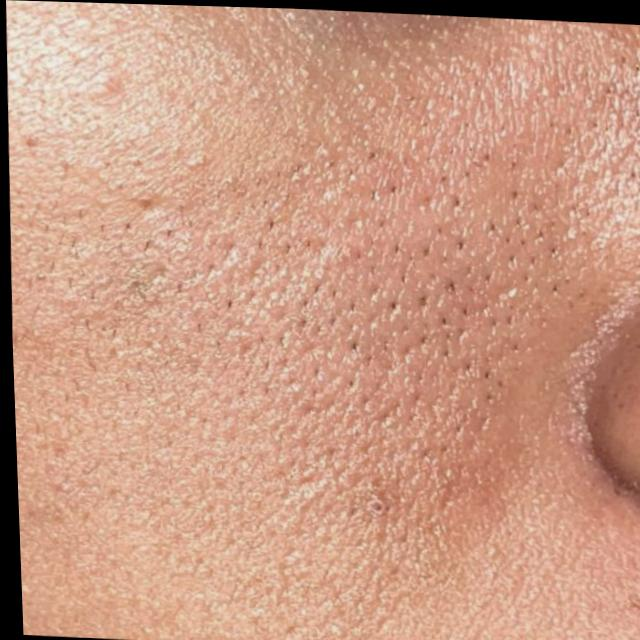blackhead: (142, 135, 602, 447)
